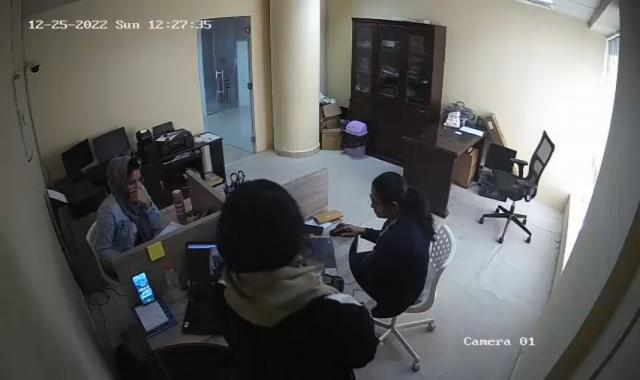no_hairnet: (216, 179, 307, 277), (369, 170, 406, 218), (105, 154, 143, 189)
